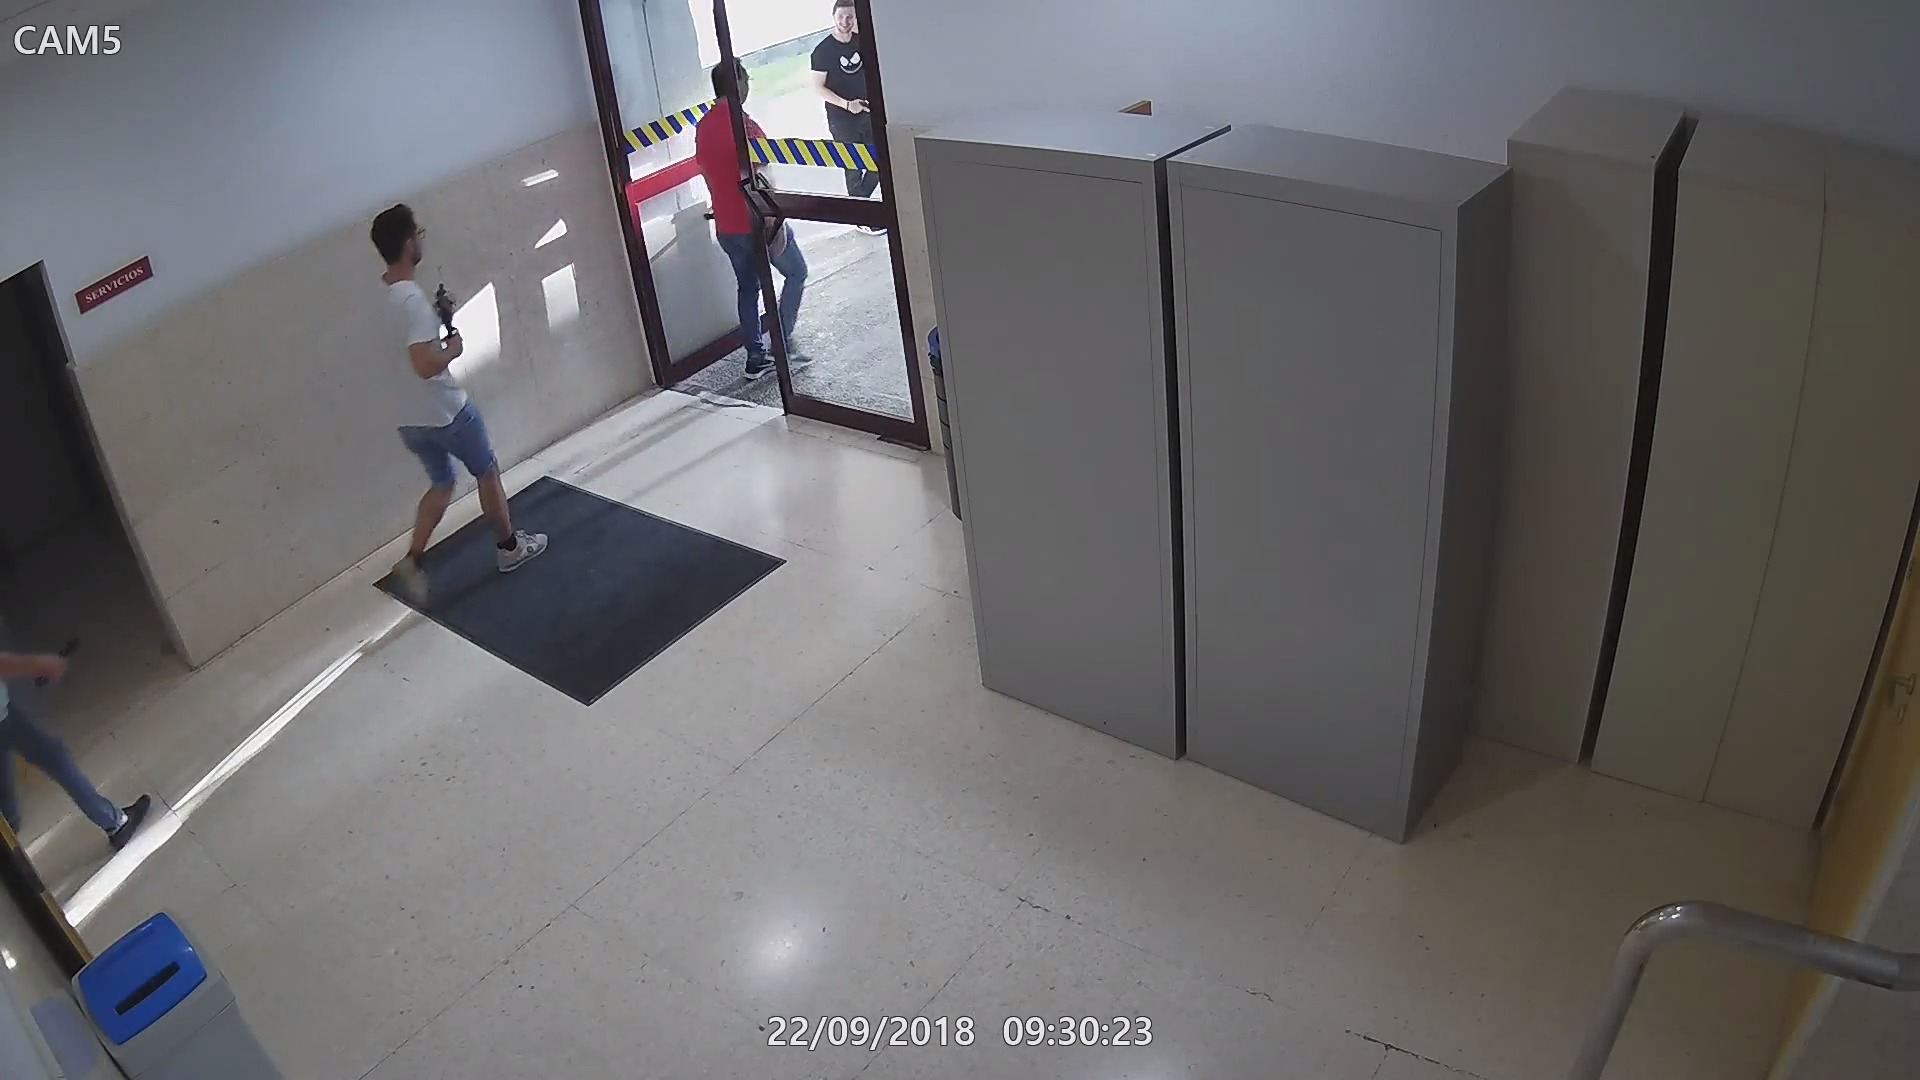Short_rifle: (431, 278, 469, 360)
